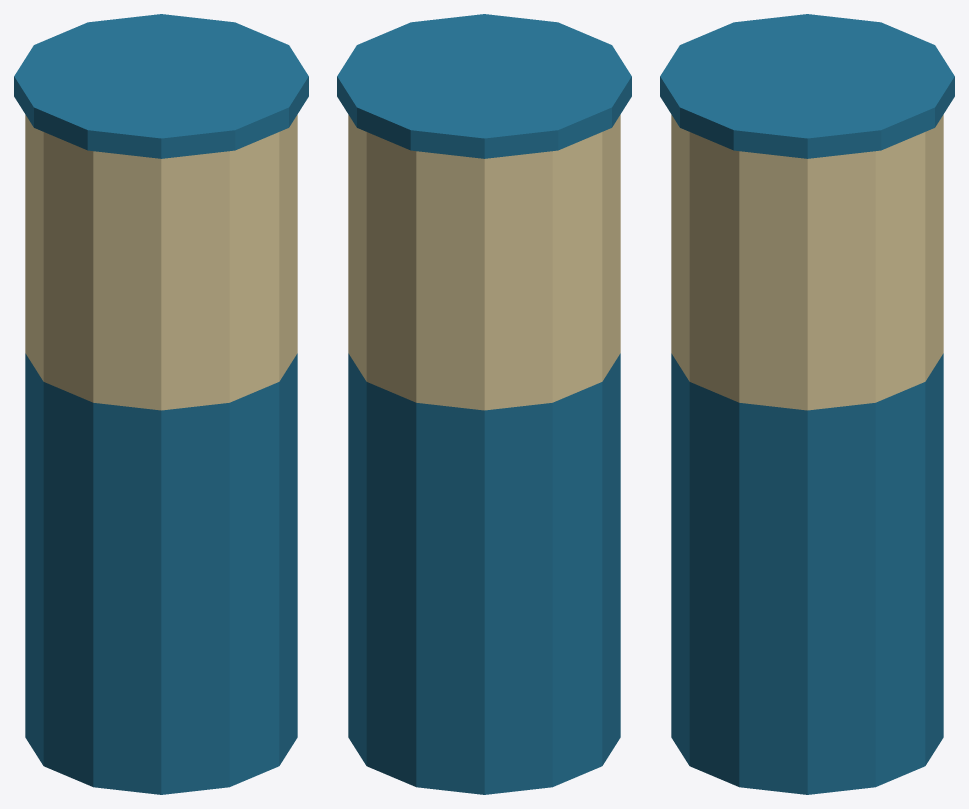
File: Ürün69.fbx
3 renders of one model, left to right at view 1: azimuth 30°, elevation 25°; view 2: azimuth 150°, elevation 25°; view 3: azimuth 270°, elevation 25°, orthographic.
Visible parts, largest first — view 1: pCylinder48; view 2: pCylinder48; view 3: pCylinder48.
Part boxes in pixels (x1,y1,x2,y2): pCylinder48: (14, 14, 308, 794); pCylinder48: (337, 14, 631, 794); pCylinder48: (660, 14, 954, 794).
Size of the model in its own units: 11.6 by 28.73 by 11.6.
